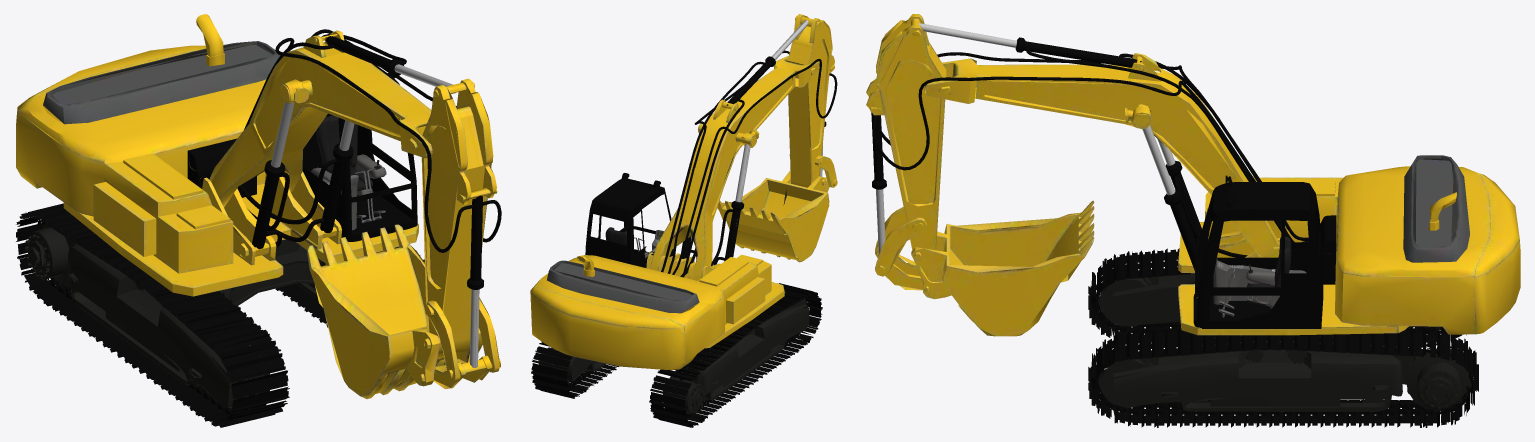
The model's file is excavator.glb.
3 renders of one model, left to right at view 1: azimuth 30°, elevation 25°; view 2: azimuth 150°, elevation 25°; view 3: azimuth 270°, elevation 25°, orthographic. The views are drawn at different scales.
Visible parts, largest first — view 1: Excavator_Body, Excavator_Track, Excavator_Chassis, Excavator_Hose, Excavator_Cab, Excavator_Interior; view 2: Excavator_Body, Excavator_Track, Excavator_Chassis, Excavator_Hose, Excavator_Cab, Excavator_Interior; view 3: Excavator_Body, Excavator_Chassis, Excavator_Track, Excavator_Cab, Excavator_Hose, Excavator_Interior.
Boxes of the visible parts, x1=… form: Excavator_Body: x1=16, y1=14, x2=500, y2=398; Excavator_Track: x1=16, y1=203, x2=424, y2=427; Excavator_Chassis: x1=25, y1=223, x2=325, y2=410; Excavator_Hose: x1=187, y1=29, x2=501, y2=367; Excavator_Cab: x1=302, y1=62, x2=417, y2=241; Excavator_Interior: x1=311, y1=115, x2=386, y2=230; Excavator_Body: x1=530, y1=14, x2=837, y2=369; Excavator_Track: x1=531, y1=283, x2=822, y2=427; Excavator_Chassis: x1=538, y1=298, x2=809, y2=414; Excavator_Hose: x1=661, y1=20, x2=837, y2=277; Excavator_Cab: x1=585, y1=173, x2=673, y2=267; Excavator_Interior: x1=605, y1=227, x2=664, y2=257; Excavator_Body: x1=866, y1=14, x2=1520, y2=336; Excavator_Chassis: x1=1098, y1=273, x2=1471, y2=412; Excavator_Track: x1=1088, y1=248, x2=1478, y2=427; Excavator_Cab: x1=1193, y1=175, x2=1323, y2=328; Excavator_Hose: x1=871, y1=23, x2=1336, y2=284; Excavator_Interior: x1=1213, y1=236, x2=1306, y2=317.
Size of the model in its own units: 3.88 by 5.94 by 9.92.
Materials: 5 (4 with a texture image).
